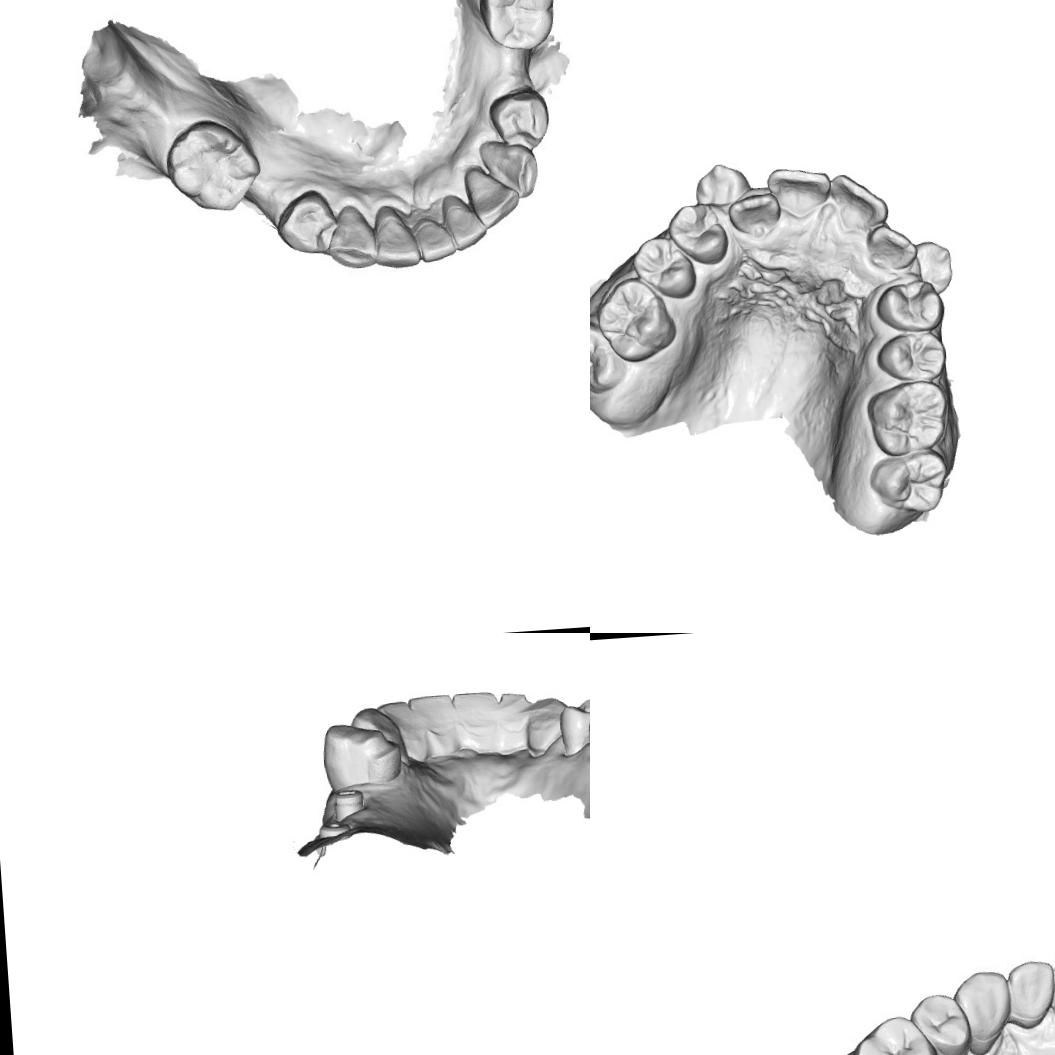canine: (956, 965, 1010, 1055), (477, 130, 535, 200), (690, 158, 755, 216), (324, 206, 374, 272), (522, 695, 570, 758), (911, 236, 957, 296), (348, 704, 394, 734)
incisor: (763, 162, 836, 224), (825, 168, 892, 232), (459, 168, 518, 228), (433, 190, 489, 252), (858, 220, 920, 276), (450, 688, 500, 755), (726, 188, 786, 240), (411, 207, 459, 269), (1007, 959, 1055, 1021), (370, 213, 418, 274), (496, 690, 532, 751), (407, 690, 453, 725), (375, 698, 412, 726)
molar: (161, 112, 265, 219), (592, 273, 682, 367), (864, 376, 954, 459), (867, 447, 949, 519), (475, 0, 557, 52), (861, 1016, 935, 1055), (590, 319, 626, 397)
premolar: (319, 720, 403, 794), (628, 232, 699, 303), (271, 183, 339, 257), (870, 276, 946, 336), (664, 200, 731, 268), (872, 328, 950, 384), (913, 989, 972, 1055), (490, 88, 546, 146), (556, 694, 590, 757)
